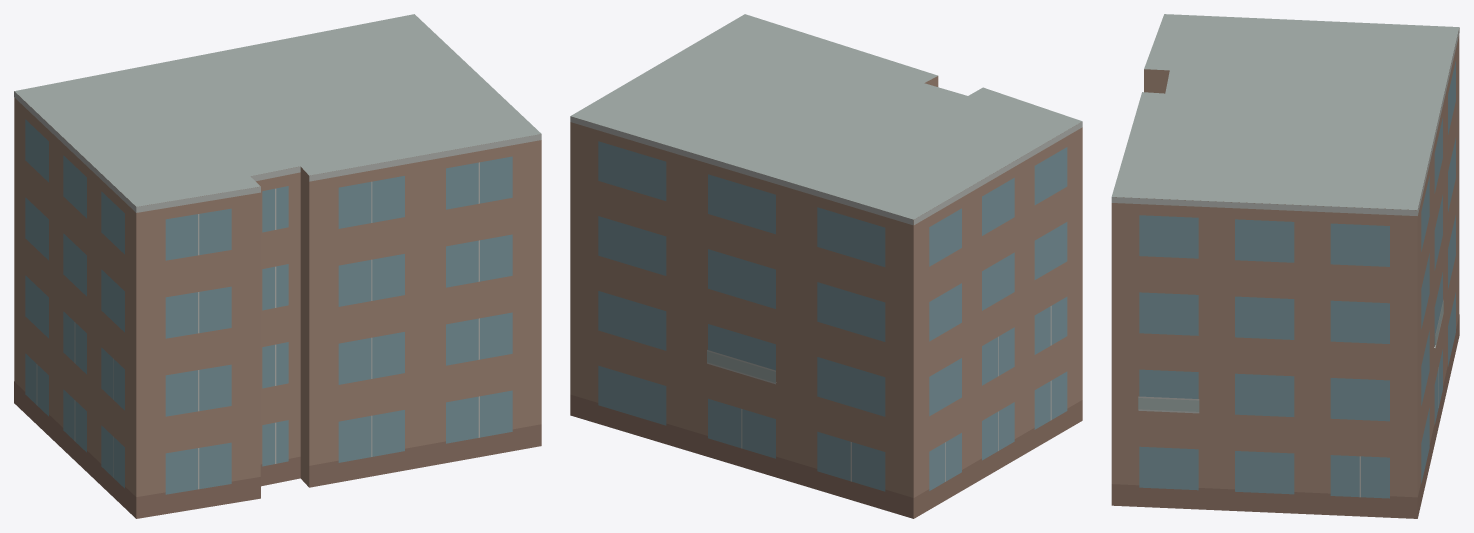
Rendered from survey-upis-32763743.glb.
3 views of the same model, side by side, from view 1: azimuth 30°, elevation 25°; view 2: azimuth 150°, elevation 25°; view 3: azimuth 270°, elevation 25° (orthographic). The views are drawn at different scales.
Visible parts, largest first — view 1: survey-upis-32763743.tmp; view 2: survey-upis-32763743.tmp; view 3: survey-upis-32763743.tmp.
Boxes of the visible parts, left/top/right/bottom form: survey-upis-32763743.tmp: left=14, top=14, right=541, bottom=518; survey-upis-32763743.tmp: left=570, top=14, right=1082, bottom=518; survey-upis-32763743.tmp: left=1111, top=14, right=1459, bottom=518.
Bounding box in the file's own units: 17.11 × 12.55 × 12.82.
